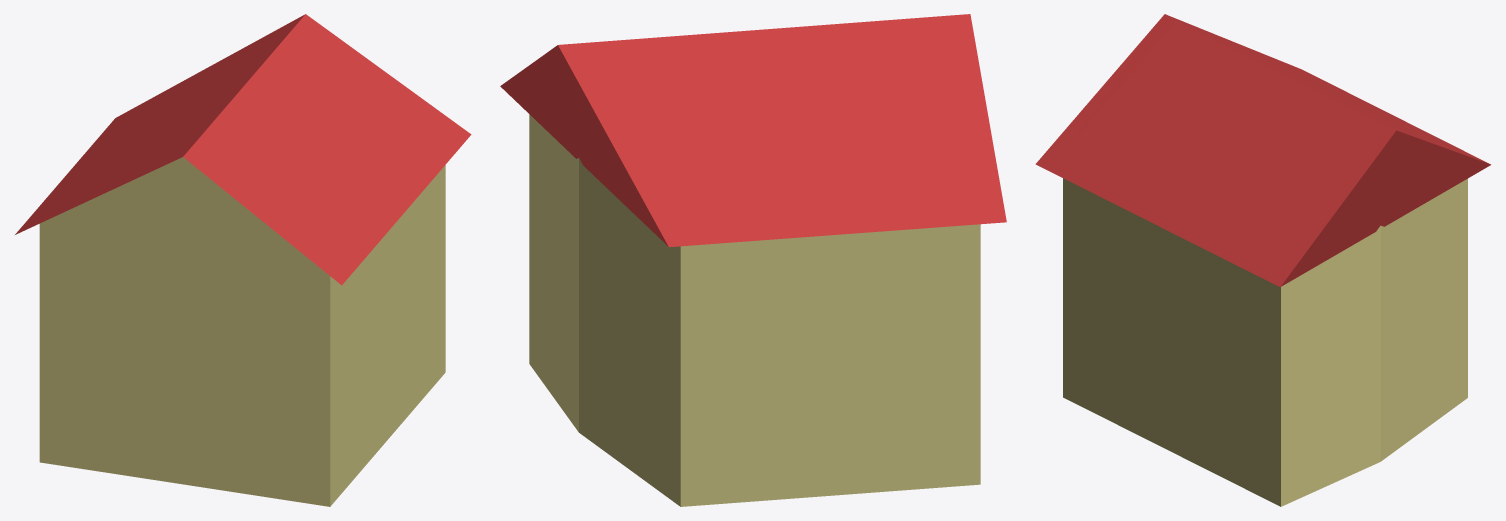
The picture shows the model from 3 angles, left to right: view 1: azimuth 30°, elevation 25°; view 2: azimuth 150°, elevation 25°; view 3: azimuth 270°, elevation 25°; orthographic projection. The views are drawn at different scales.
Visible parts, largest first — view 1: group_6, group_3, group_5; view 2: group_6, group_3, group_4; view 3: group_6, group_3, group_5, group_4.
Part boxes in pixels (bbox=[...]): group_6: bbox=[39, 157, 445, 506]; group_3: bbox=[15, 14, 445, 282]; group_5: bbox=[183, 14, 471, 285]; group_6: bbox=[529, 114, 980, 506]; group_3: bbox=[558, 14, 1006, 247]; group_4: bbox=[500, 45, 668, 246]; group_6: bbox=[1063, 178, 1467, 506]; group_3: bbox=[1063, 14, 1490, 285]; group_5: bbox=[1035, 14, 1396, 286]; group_4: bbox=[1281, 130, 1490, 286].
Bounding box in the file's own units: 19.77 × 17.5 × 14.24.
